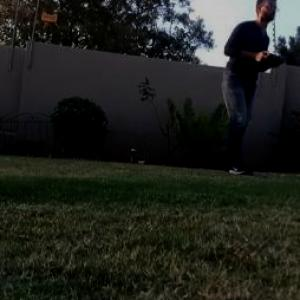follow: (208, 0, 289, 183)
